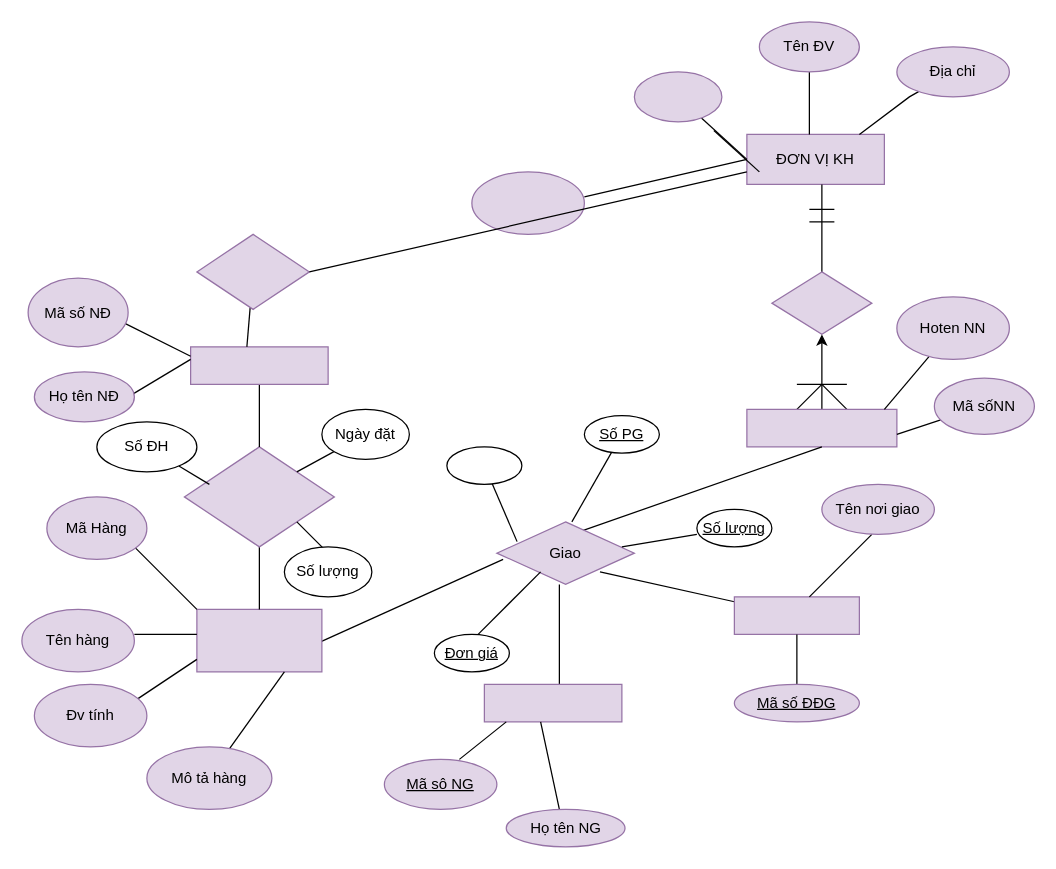
The diagram is 1056 pixels wide and 869 high, and some of its shapes have lost their labels. The shapes that lost their labels are listed below. From the top down, each one's box as (x1, y1, x2, y2) in pixels, then its label:
(633, 71, 722, 122): Mã ĐV
(471, 171, 584, 234): Điện thoại
(196, 233, 309, 309): Thuộc 1
(771, 271, 872, 334): Thuộc 2
(189, 346, 328, 384): NGƯỜI ĐẠT
(746, 408, 897, 447): NGƯỜI NHẬN
(446, 446, 522, 484): Ngày giao
(183, 446, 334, 547): Đặt
(733, 596, 859, 634): NƠI GIAO
(196, 608, 322, 672): HÀNG
(483, 683, 622, 722): NGƯỜI GIAO
